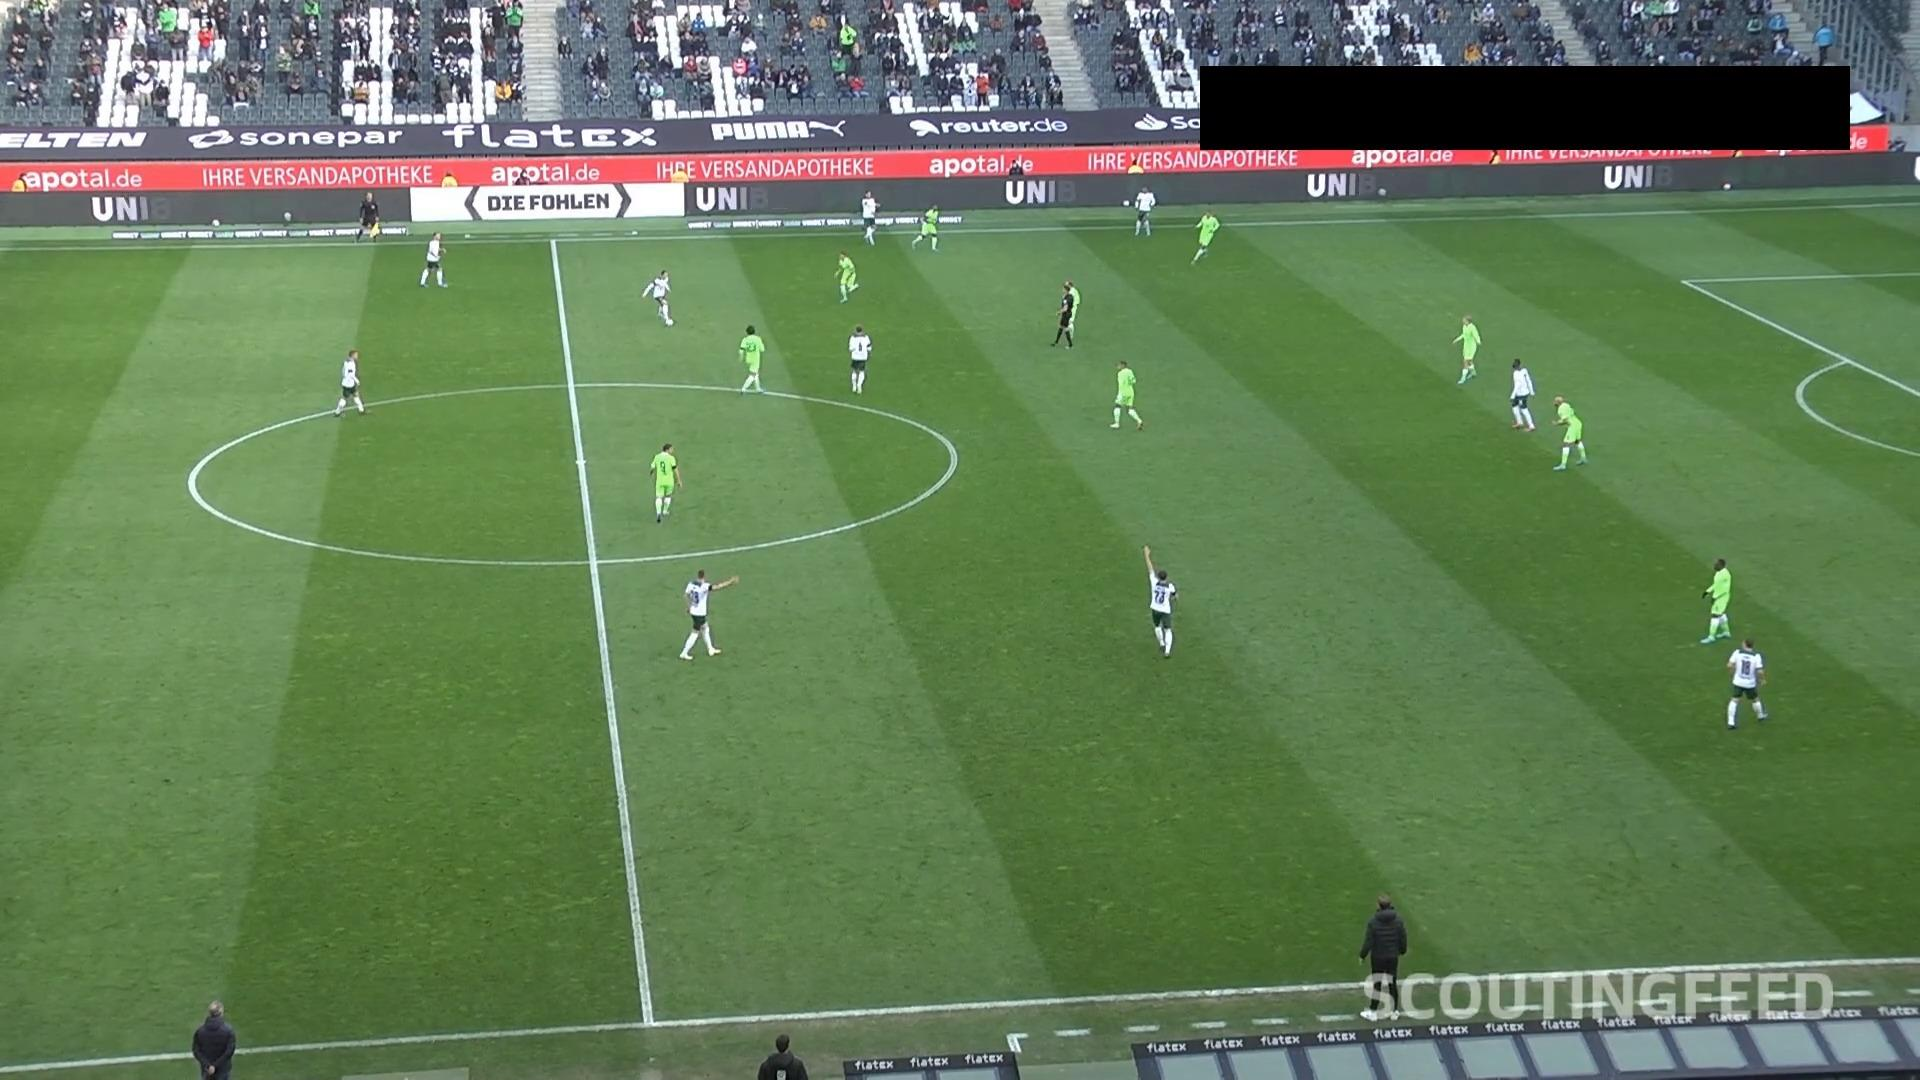coach: (1357, 892, 1407, 1019), (191, 999, 236, 1078)
player: (678, 568, 738, 660), (1141, 544, 1178, 658), (1724, 637, 1768, 728), (1550, 393, 1587, 470), (648, 442, 682, 523), (1699, 557, 1731, 643), (1109, 359, 1143, 430), (1451, 313, 1481, 385), (334, 348, 365, 416), (1508, 356, 1536, 431), (736, 324, 765, 393), (640, 268, 674, 326), (846, 325, 872, 394), (1190, 208, 1220, 264), (418, 230, 447, 287), (910, 203, 940, 251), (1061, 278, 1082, 342), (833, 250, 858, 303), (1132, 185, 1155, 236), (859, 188, 879, 245)
referee: (757, 1032, 808, 1078), (1051, 278, 1079, 348), (356, 190, 382, 244)
